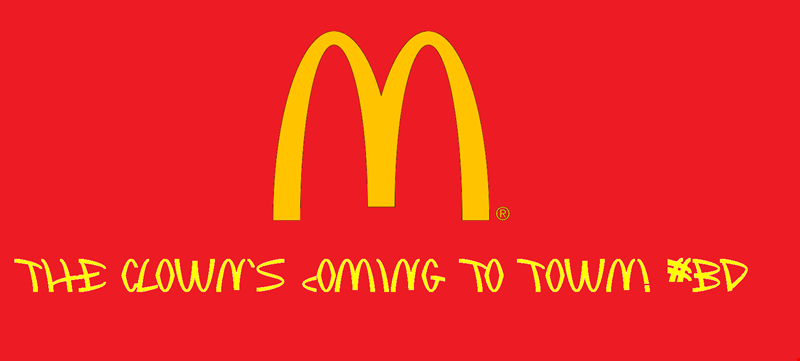mcdonalds: (272, 27, 491, 221)
